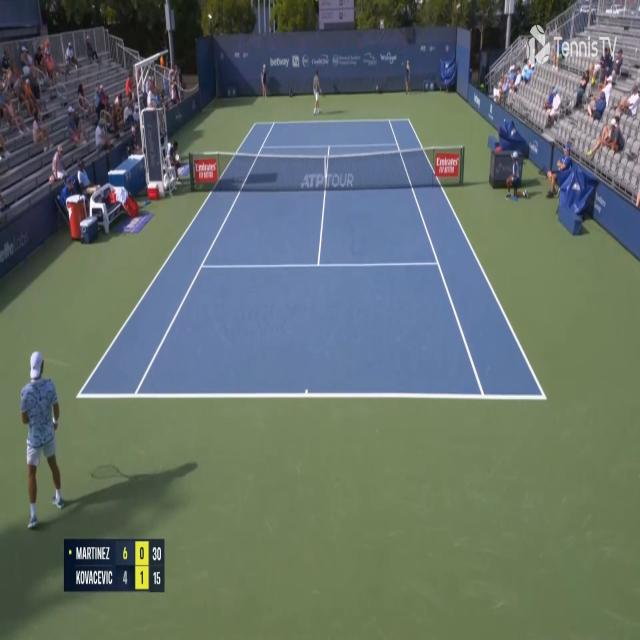tennis-player: (20, 345, 68, 528), (312, 67, 322, 116)
